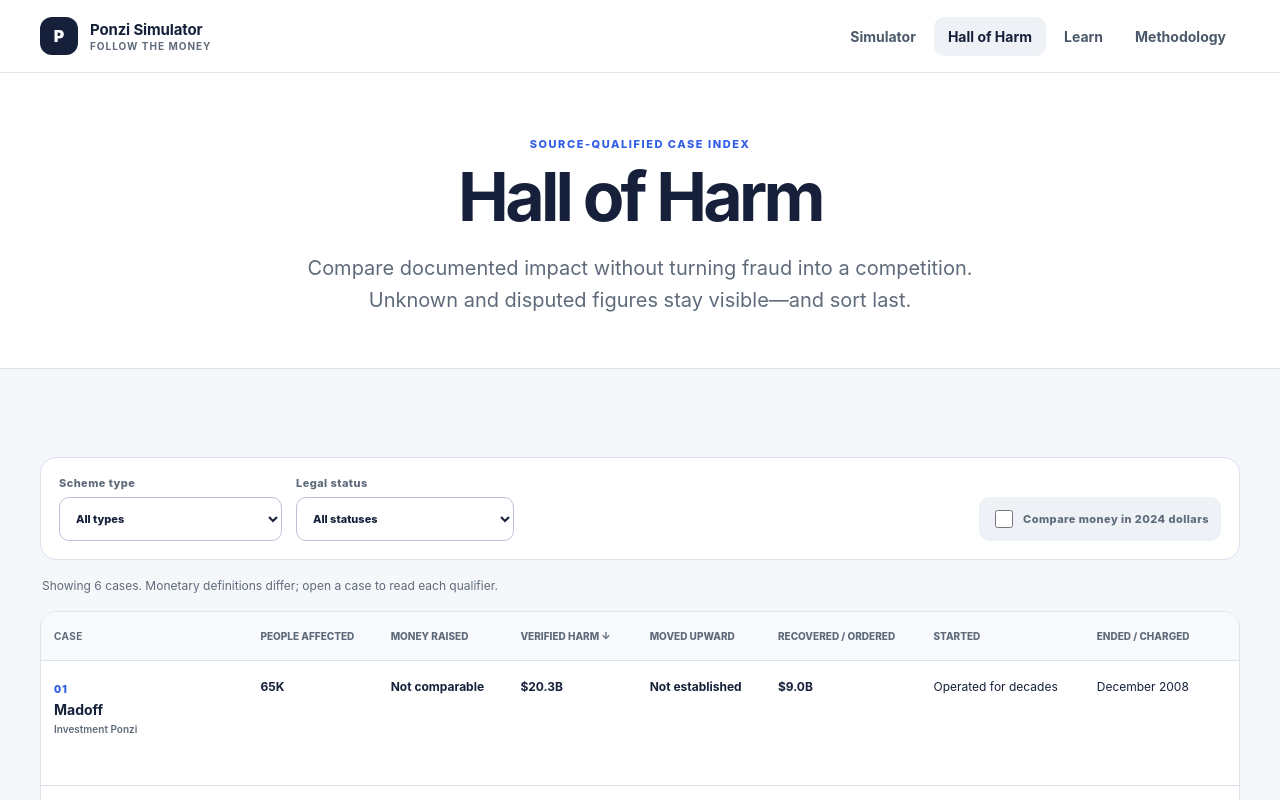
Hall of Harm controls › adds a clearly labelled inflation comparison
Click the checkbox labelled "Compare money in 2024 dollars".
click(1004, 519)  # box [995, 510, 1013, 528]
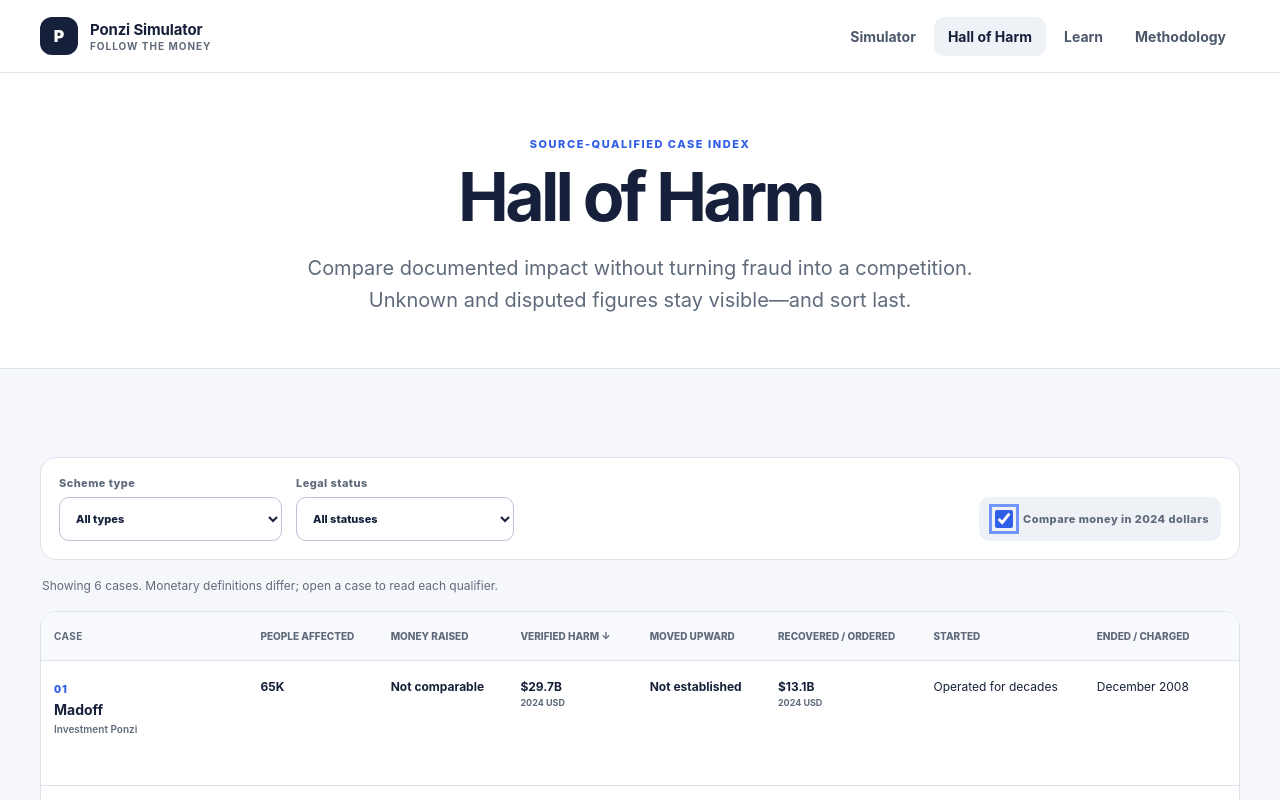
Result: the text "2024 USD" below "$29.7B" is shown at [520, 697, 565, 708]
